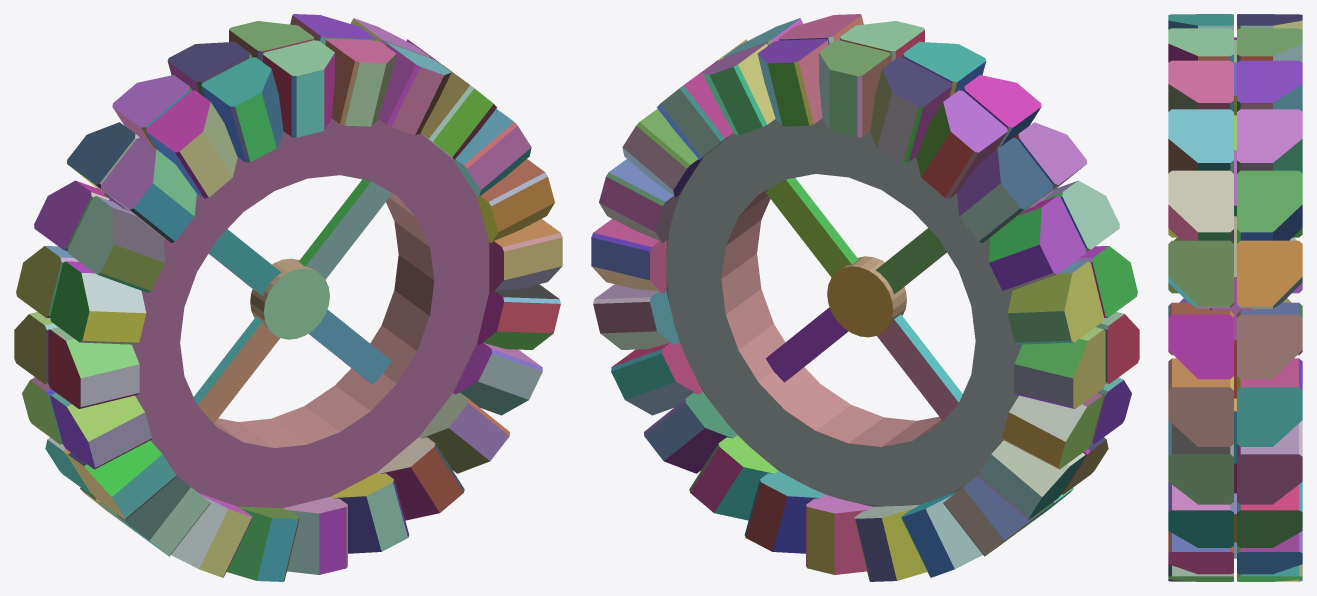
The model's file is module-scroll-01.glb.
3 views of the same model, side by side, from view 1: azimuth 30°, elevation 25°; view 2: azimuth 150°, elevation 25°; view 3: azimuth 270°, elevation 25° (orthographic).
Bounding box in the file's own units: 1.64 × 1.64 × 0.3912.
